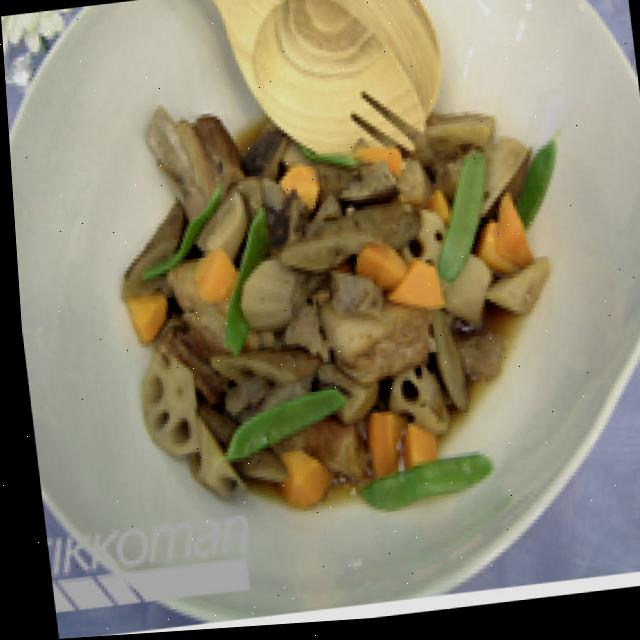鸡肉料理 含炸鸡: (80, 44, 597, 538)
